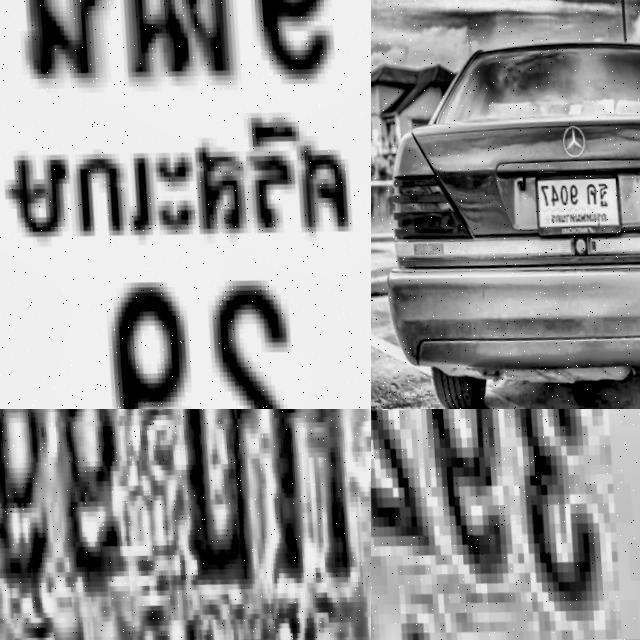license-plate: (0, 0, 371, 409), (0, 409, 371, 640), (371, 409, 640, 640), (530, 163, 628, 241)
